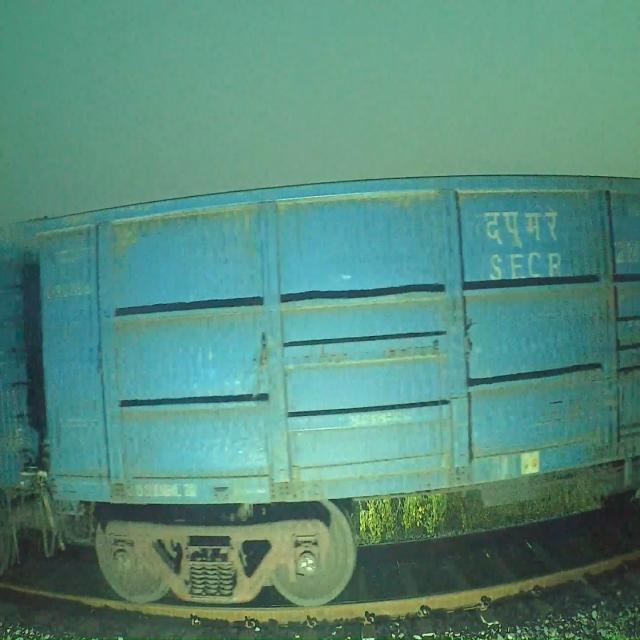WAgon-uic: (22, 171, 640, 614), (0, 239, 106, 585)
uic: (607, 236, 640, 277)
